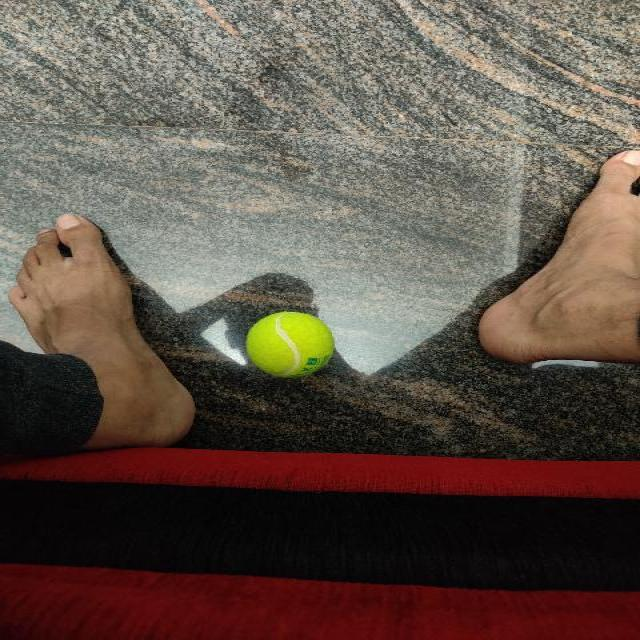tennis-ball: (245, 311, 335, 377)
